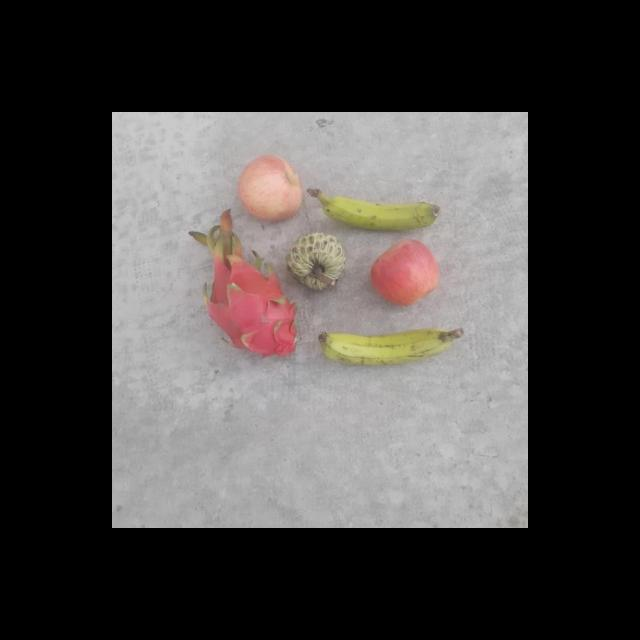Sakya fruit: (290, 231, 347, 289)
apple: (372, 240, 442, 308), (238, 155, 306, 222)
banana: (318, 180, 446, 234), (314, 322, 450, 370)
pitaya: (207, 260, 300, 362)
